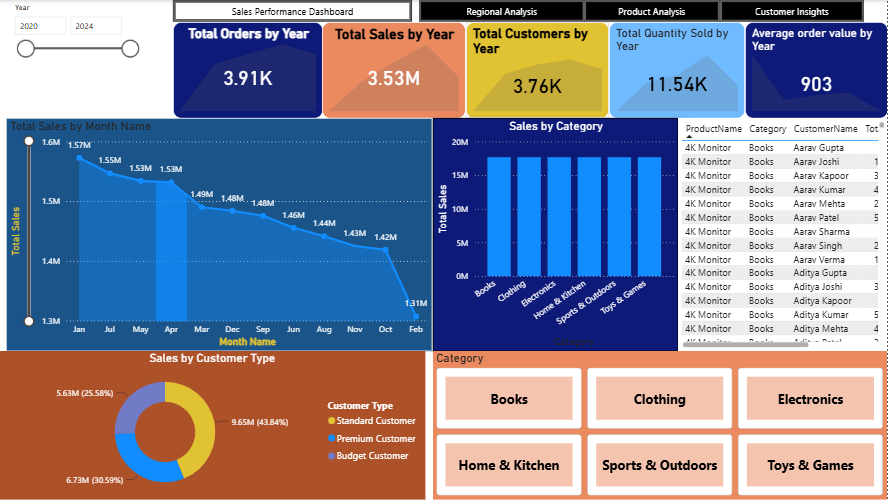

The dashboard page shown, as its layout file describes it:
{"tool":"powerbi","page":{"name":"Sales Performance Dashboard","canvas":[1280,720],"ordinal":0},"visuals":[{"type":"kpi","fields":{"Indicator":["Measure Table.Total Orders"],"TrendLine":["Date Master.Year"]},"box":[250,31.4,215.7,138.6],"z":0},{"type":"kpi","fields":{"Indicator":["Measure Table.Total Sales"],"TrendLine":["Date Master.Year"]},"box":[465.7,31.4,207.1,138.6],"z":1},{"type":"kpi","fields":{"Indicator":["Measure Table.Total Customers"],"TrendLine":["Date Master.Year"]},"box":[672.9,31.4,205.7,138.6],"z":2},{"type":"kpi","fields":{"Indicator":["Measure Table.Total Quantity Sold"],"TrendLine":["Date Master.Year"]},"box":[878.6,31.4,195.7,138.6],"z":3},{"type":"kpi","fields":{"Indicator":["Measure Table.Average order value"],"TrendLine":["Date Master.Year"]},"box":[1074.3,31.4,205.7,138.6],"z":4},{"type":"lineChart","fields":{"Category":["Date Master.Month Name"],"Y":["Measure Table.Total Sales"]},"box":[10,170,614.3,335.7],"z":5},{"type":"clusteredColumnChart","title":"Sales by Category","fields":{"Category":["Product Master.Category"],"Y":["Measure Table.Total Sales"]},"box":[624.3,170,352.9,335.7],"z":7},{"type":"donutChart","title":"Sales by Customer Type","fields":{"Category":["Customer Master.Customer Type"],"Y":["Measure Table.Total Sales"]},"box":[0,505.7,614.3,214.3],"z":8},{"type":"tableEx","fields":{"Values":["Product Master.ProductName","Product Master.Category","Customer Master.CustomerName","Measure Table.Total Sales","Sum(Fact Sales.Quantity)"]},"box":[977.1,170,302.9,335.7],"z":9},{"type":"actionButton","title":"Page 1","box":[250,0,344.3,31.4],"z":10},{"type":"actionButton","title":"Regional Analysis","box":[604.3,0,238.6,31.4],"z":11},{"type":"actionButton","title":"Regional Analysis","box":[842.9,0,195.7,31.4],"z":12},{"type":"actionButton","title":"Regional Analysis","box":[1038.6,0,207.1,31.4],"z":13},{"type":"slicer","fields":{"Values":["Date Master.Year"]},"box":[10,0,200,88.6],"z":14},{"type":"advancedSlicerVisual","fields":{"Values":["Product Master.Category"]},"box":[624.3,505.7,655.7,214.3],"z":15}]}

Visuals, with their boxes in screenshot pixels (x1, y1, x2, y2), scaled from the page's 1280x720 canvas onto the 888x500 screenshot:
kpi - Measure Table.Total Orders x Date Master.Year: [173,22,323,118]
kpi - Measure Table.Total Sales x Date Master.Year: [323,22,467,118]
kpi - Measure Table.Total Customers x Date Master.Year: [467,22,610,118]
kpi - Measure Table.Total Quantity Sold x Date Master.Year: [610,22,745,118]
kpi - Measure Table.Average order value x Date Master.Year: [745,22,887,118]
lineChart - Date Master.Month Name x Measure Table.Total Sales: [7,118,433,351]
"Sales by Category" clusteredColumnChart: [433,118,678,351]
"Sales by Customer Type" donutChart: [0,351,426,499]
tableEx - Product Master.ProductName x Product Master.Category: [678,118,887,351]
"Page 1" actionButton: [173,0,412,22]
"Regional Analysis" actionButton: [419,0,585,22]
"Regional Analysis" actionButton: [585,0,721,22]
"Regional Analysis" actionButton: [721,0,864,22]
slicer - Date Master.Year: [7,0,146,62]
advancedSlicerVisual - Product Master.Category: [433,351,887,499]
